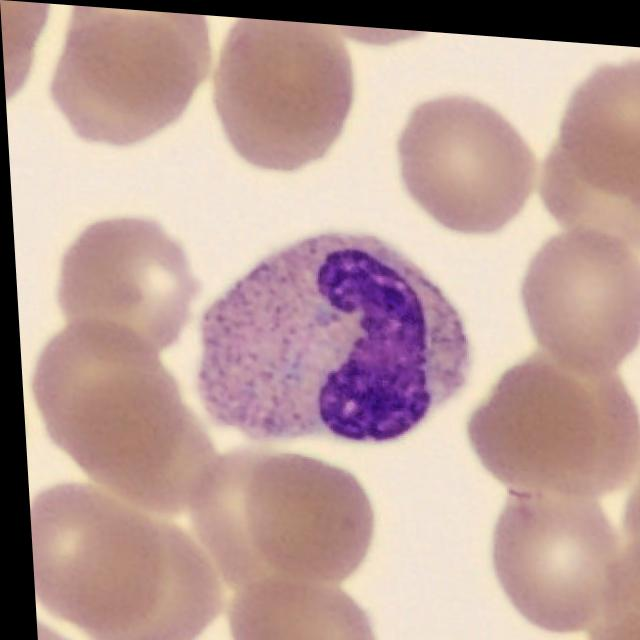Bastonete: (188, 228, 469, 440)
